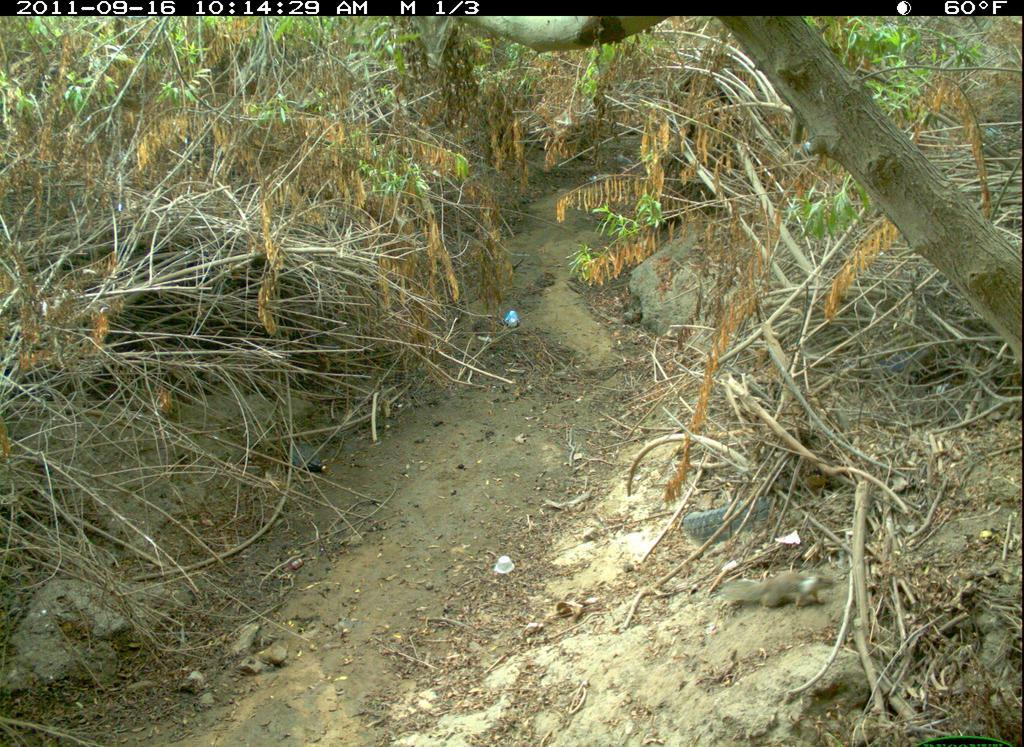squirrel: (717, 561, 840, 612)
